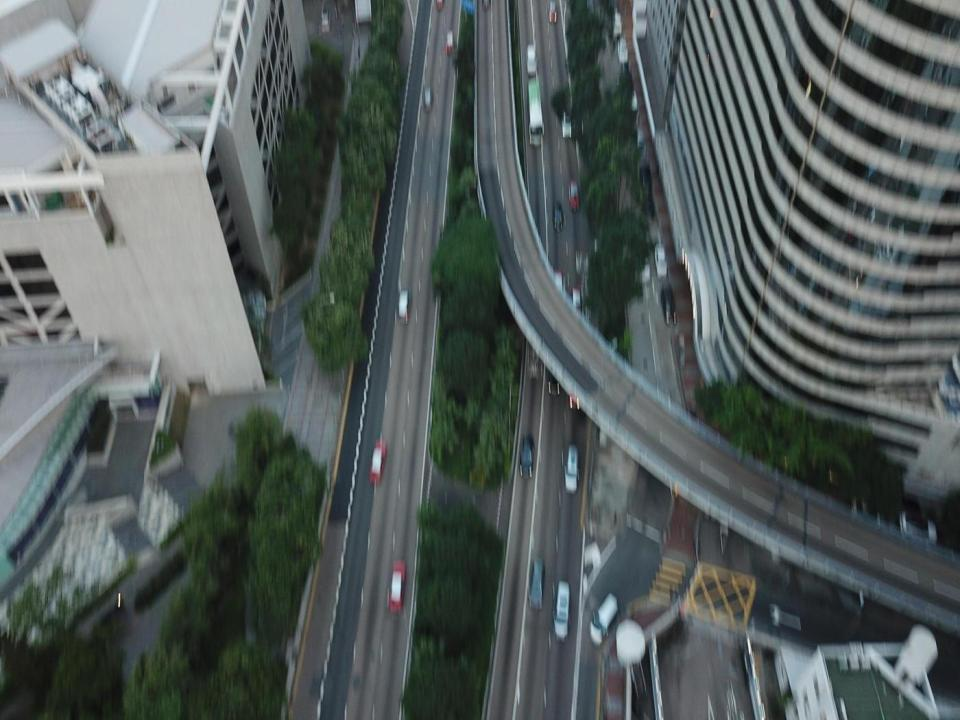bus: (526, 75, 545, 146)
car: (901, 511, 939, 549), (368, 438, 388, 488), (528, 556, 545, 613), (562, 442, 578, 496), (634, 241, 652, 288), (390, 560, 405, 614), (618, 72, 638, 112), (628, 123, 648, 159), (548, 262, 564, 304), (548, 352, 562, 398), (520, 433, 533, 481), (654, 241, 667, 282), (567, 373, 580, 413), (609, 6, 624, 40), (398, 285, 411, 324), (571, 282, 582, 326), (567, 172, 579, 210), (524, 41, 537, 74), (320, 4, 333, 34), (552, 201, 564, 231), (420, 85, 432, 111), (616, 35, 628, 61), (444, 28, 454, 57), (562, 108, 570, 142), (547, 0, 556, 27), (481, 0, 495, 14), (435, 0, 444, 14)
van: (590, 587, 618, 647), (552, 578, 569, 640), (638, 164, 656, 218), (660, 282, 678, 324)
